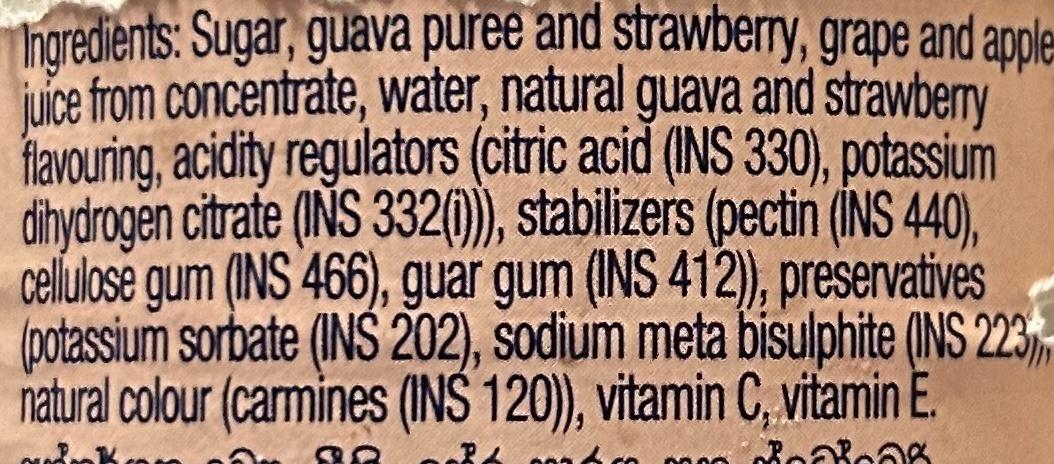ingredients: (20, 14, 1054, 427)
